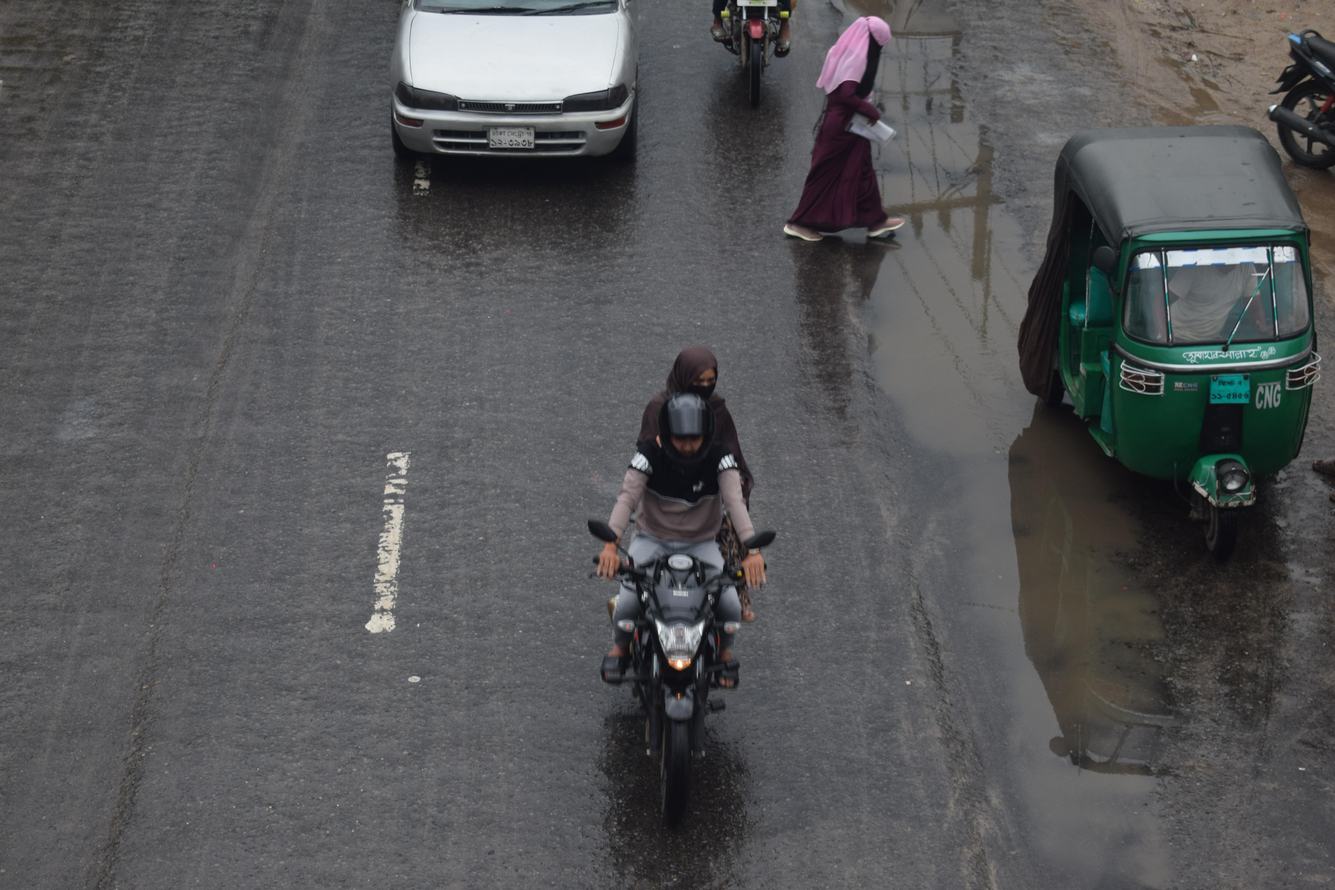Bike: (487, 309, 878, 868)
Car: (349, 0, 698, 217)
